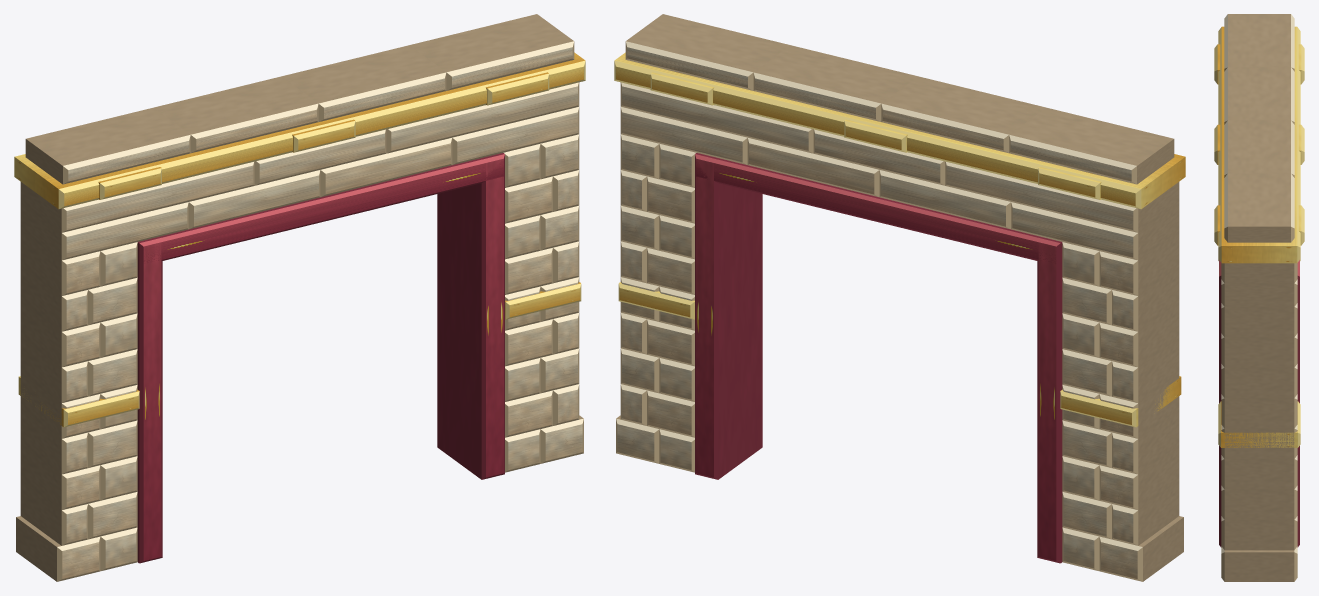
The model's file is mesa_portal.glb.
The picture shows the model from 3 angles, left to right: view 1: azimuth 30°, elevation 25°; view 2: azimuth 150°, elevation 25°; view 3: azimuth 270°, elevation 25°; orthographic projection. The views are drawn at different scales.
Visible parts, largest first — view 1: arch_v3; view 2: arch_v3; view 3: arch_v3.
Part boxes in pixels (x1,y1,x2,y2): arch_v3: [14, 14, 585, 581]; arch_v3: [614, 14, 1185, 581]; arch_v3: [1214, 14, 1304, 581].
Bounding box in the file's own units: 68 × 50.9 × 11.8.
1 material, 1 textured.
